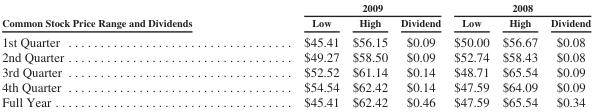table: (1, 1, 590, 108)
table column: (1, 1, 247, 108), (247, 1, 345, 108), (393, 1, 446, 108), (446, 1, 495, 108), (345, 1, 393, 108), (495, 1, 543, 108), (543, 1, 590, 108)
table column header: (1, 1, 590, 31)
table row: (1, 31, 590, 49), (1, 14, 590, 31), (1, 49, 590, 64), (1, 64, 590, 79), (1, 79, 590, 94), (1, 94, 590, 108), (1, 1, 590, 14)
table spanning cell: (1, 1, 247, 31), (247, 1, 446, 14), (446, 1, 590, 14)
